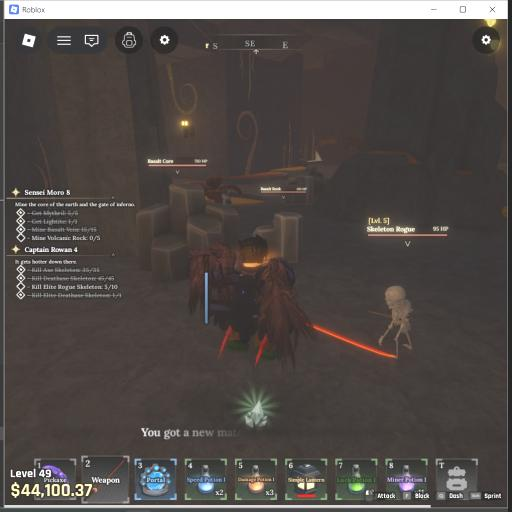player: (189, 235, 314, 369)
rock: (137, 185, 239, 281), (253, 212, 302, 262), (283, 167, 326, 203)
